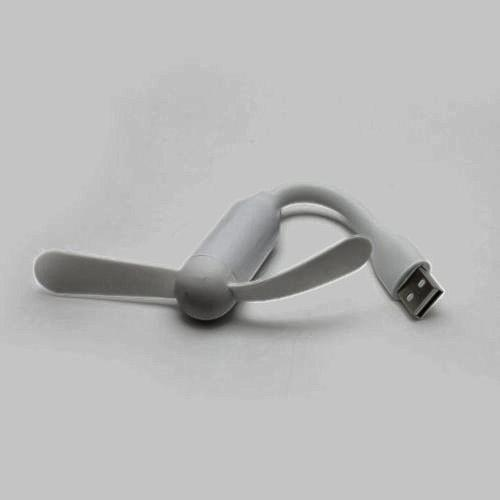fan: (66, 187, 440, 337)
